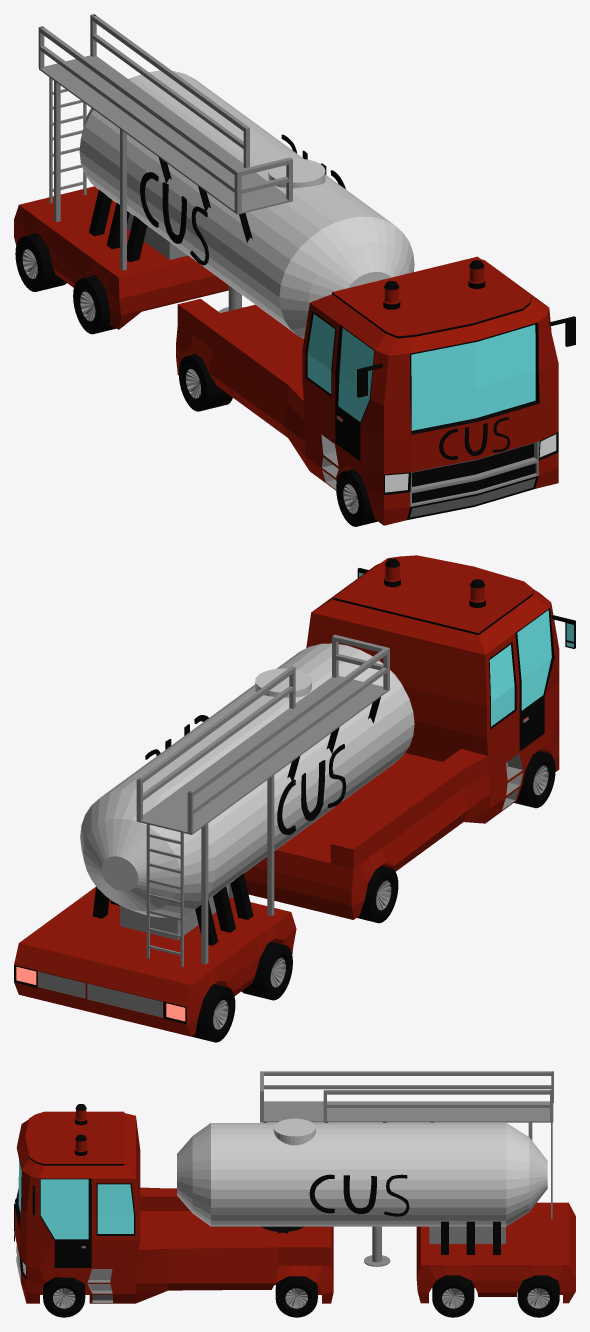
The model's file is camion.gltf.
3 views of the same model, one above another, from view 1: azimuth 30°, elevation 25°; view 2: azimuth 150°, elevation 25°; view 3: azimuth 270°, elevation 25° (orthographic). The views are drawn at different scales.
Bounding box in the file's own units: 0.0888 × 0.0979 × 0.269.
